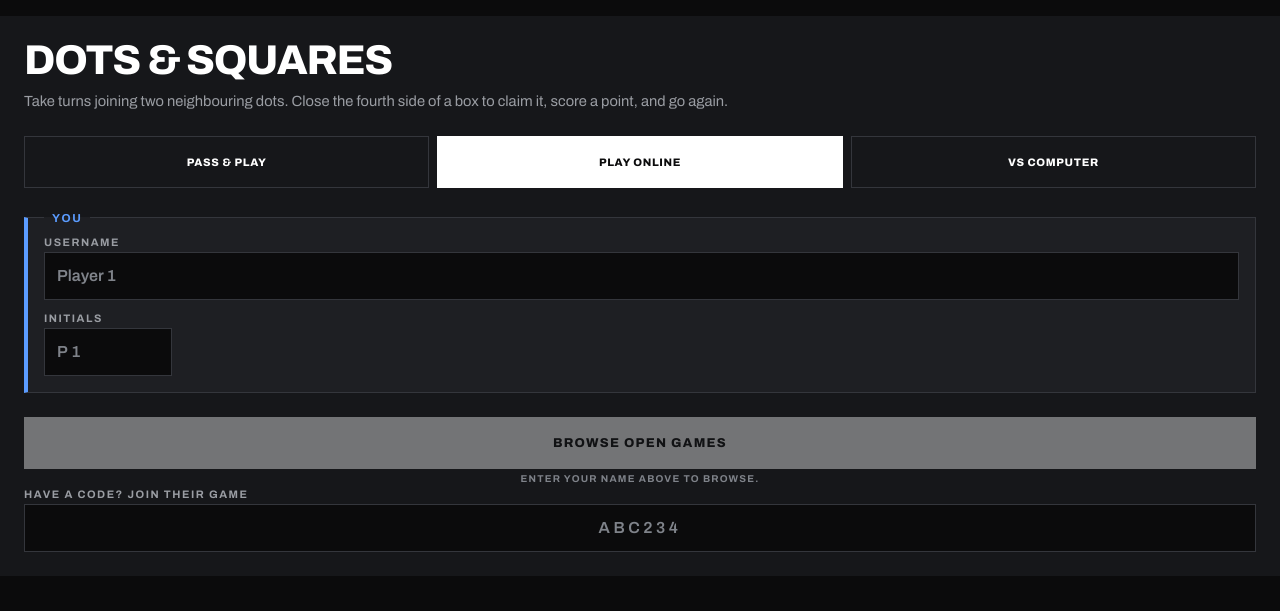
Scenario: BUG-002 — a code containing a character codes never use › says so, instead of doing nothing at all
The width and height of the screenshot is (1280, 611).
In the field labelled "Have a code? Join their game": (640, 528) [24, 504, 1256, 552], type "000000"
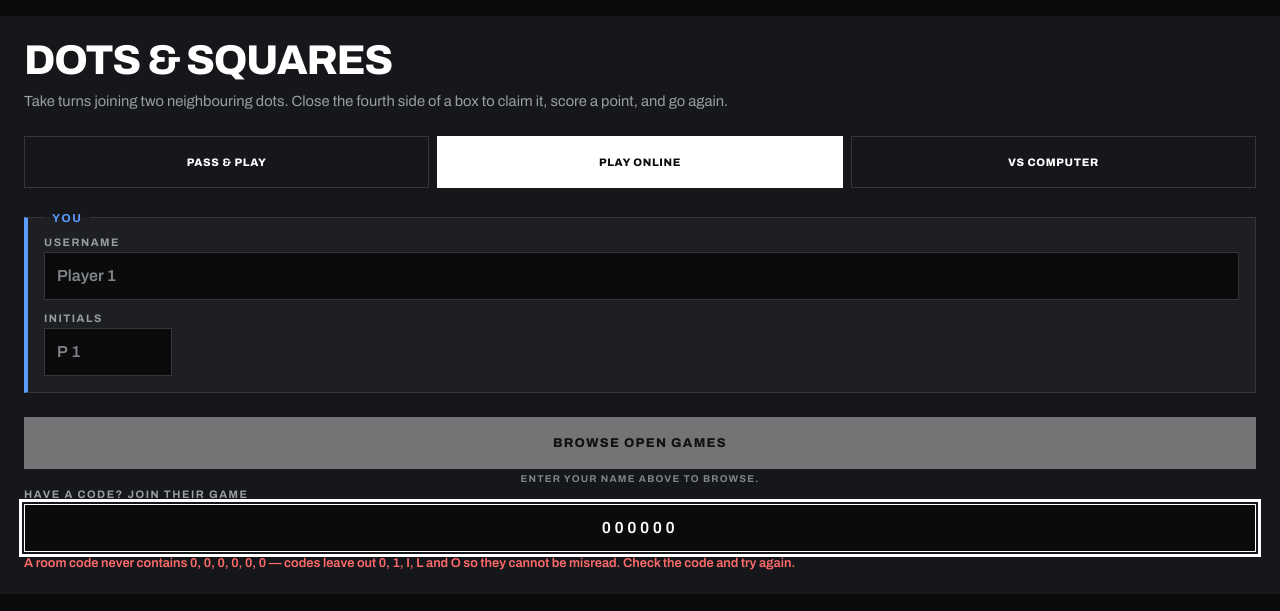
Expected: the message shows "never contains", [24, 556, 190, 570]
Expected: the message shows "0, 1, I, L and O", [266, 556, 795, 570]
